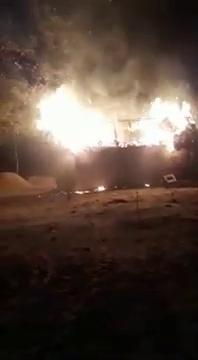fire: (42, 95, 110, 146), (145, 99, 185, 146)
